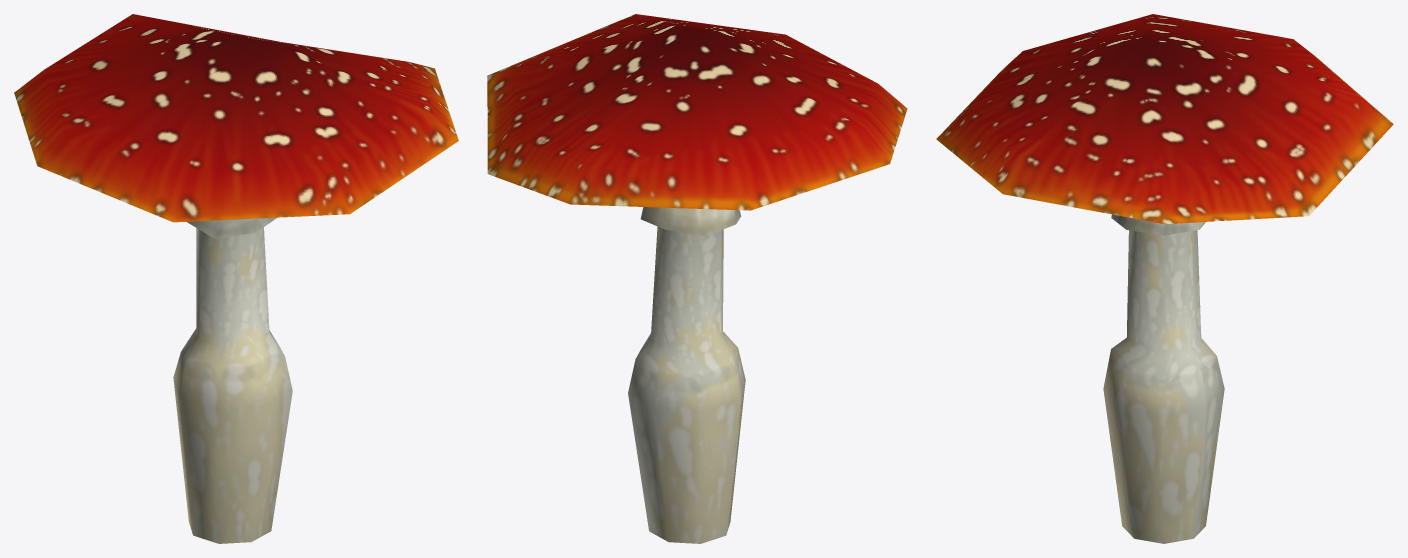
File: amanita_b_low.DAE
3 views of the same model, side by side, from view 1: azimuth 30°, elevation 25°; view 2: azimuth 150°, elevation 25°; view 3: azimuth 270°, elevation 25° (orthographic).
Parts seen in each view (by area): view 1: amanita_B_low; view 2: amanita_B_low; view 3: amanita_B_low.
Part boxes in pixels (x1,y1,x2,y2): amanita_B_low: [14, 14, 458, 543]; amanita_B_low: [487, 14, 907, 543]; amanita_B_low: [936, 14, 1393, 543].
Bounding box in the file's own units: 0.7752 × 0.7769 × 0.9103.
Materials: 1 (1 with a texture image).
